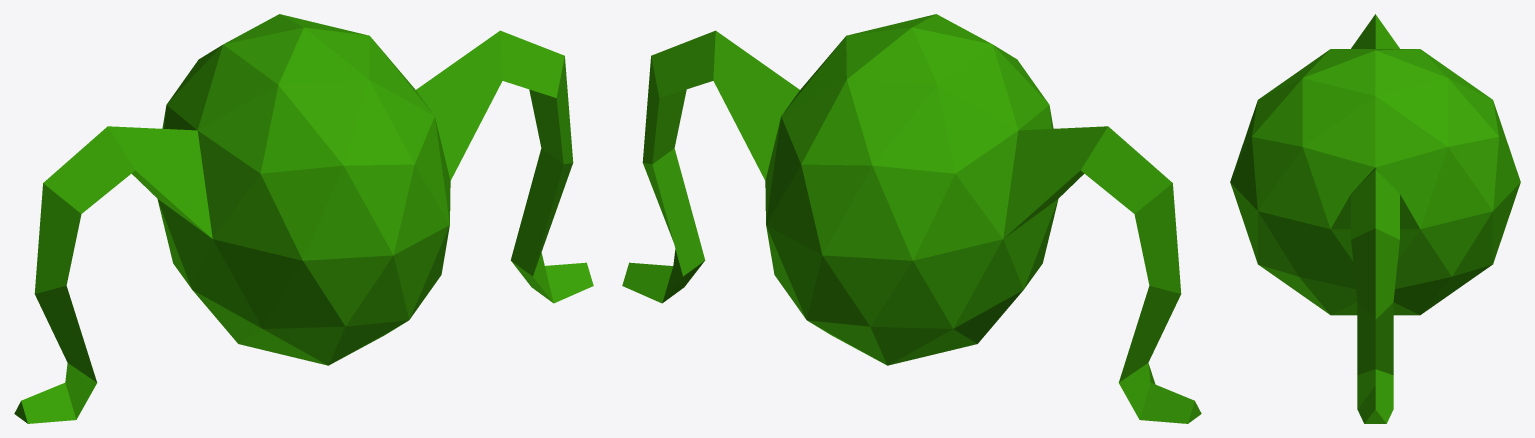
Rendered from body.obj.
3 renders of one model, left to right at view 1: azimuth 30°, elevation 25°; view 2: azimuth 150°, elevation 25°; view 3: azimuth 270°, elevation 25°, orthographic. The views are drawn at different scales.
Parts seen in each view (by area): view 1: Icosphere; view 2: Icosphere; view 3: Icosphere.
Boxes of the visible parts, x1,y1,x2,y2 form: Icosphere: (14, 14, 593, 423); Icosphere: (622, 14, 1201, 423); Icosphere: (1230, 14, 1520, 423).
Size of the model in its own units: 3.65 by 2.01 by 2.
